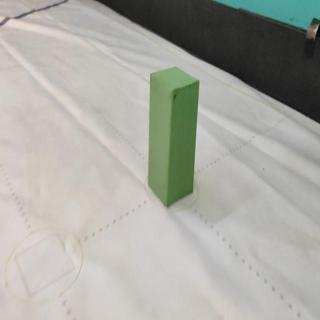greenbox: (147, 67, 199, 210)
